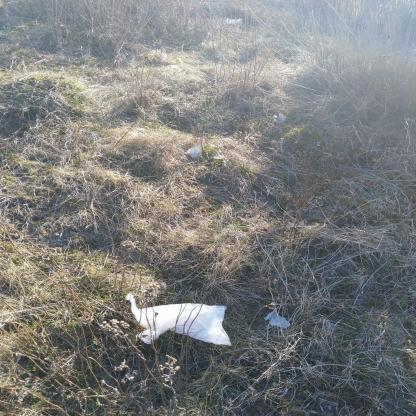plastik: (126, 292, 232, 346)
